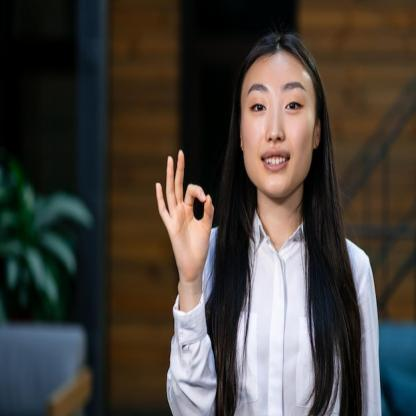ok: (150, 146, 216, 276)
